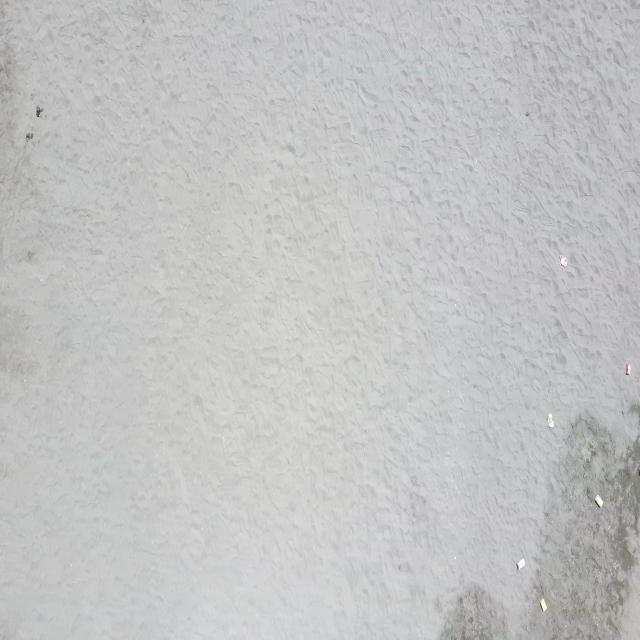retort-pouch: (545, 411, 555, 429), (594, 494, 605, 509), (516, 556, 526, 572), (558, 255, 569, 268), (538, 598, 548, 612), (625, 363, 633, 376)
